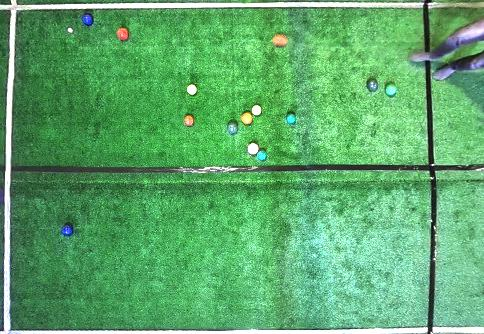blue: (61, 224, 73, 236), (83, 14, 93, 25)
green: (385, 82, 397, 97), (227, 121, 238, 135), (367, 79, 378, 92), (256, 150, 267, 161), (286, 113, 296, 125)
red: (247, 143, 259, 155), (241, 112, 252, 125), (183, 115, 194, 127), (117, 28, 128, 40), (274, 35, 286, 46)
vline: (424, 61, 483, 333), (0, 0, 20, 333), (424, 0, 483, 54)
white: (68, 28, 73, 33)
yellow: (187, 84, 197, 95), (252, 105, 261, 116)
